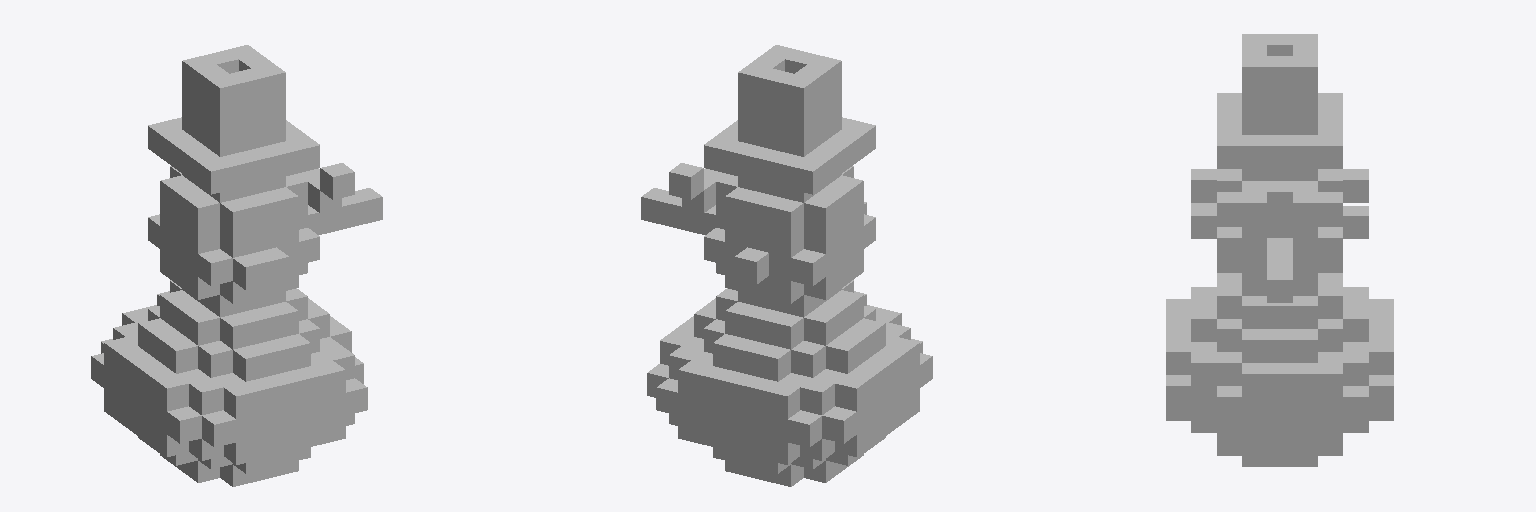
Rendered from snowman.obj.
The picture shows the model from 3 angles: view 1: azimuth 30°, elevation 25°; view 2: azimuth 150°, elevation 25°; view 3: azimuth 270°, elevation 25°; orthographic projection.
Visible parts, largest first — view 1: object 1; view 2: object 1; view 3: object 1.
Boxes of the visible parts, x1=… form: object 1: x1=91, y1=45, x2=382, y2=486; object 1: x1=641, y1=45, x2=932, y2=486; object 1: x1=1166, y1=34, x2=1393, y2=466.
Size of the model in its own units: 1.1 by 1.7 by 0.9.